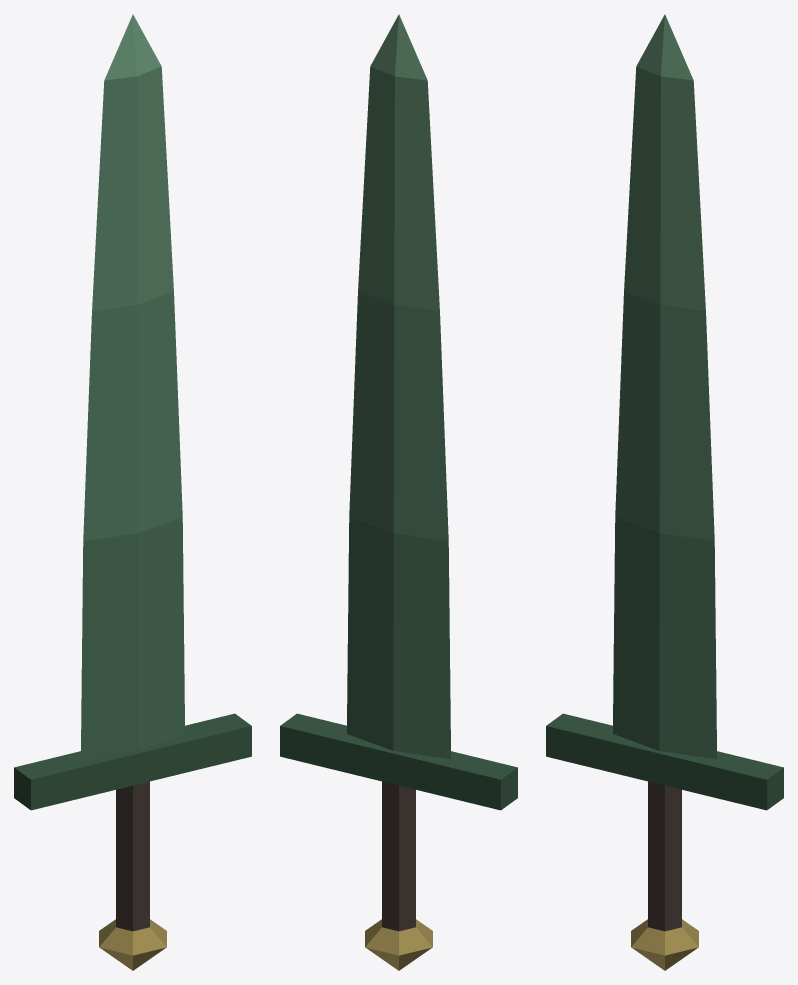
File: sword_broad_adamant_s1041.glb
3 views of the same model, side by side, from view 1: azimuth 30°, elevation 25°; view 2: azimuth 150°, elevation 25°; view 3: azimuth 330°, elevation 25° (orthographic).
Parts seen in each view (by area): view 1: sword_broad_adamant_s1041; view 2: sword_broad_adamant_s1041; view 3: sword_broad_adamant_s1041.
Part boxes in pixels (x1,y1,x2,y2): sword_broad_adamant_s1041: (14,14,251,970); sword_broad_adamant_s1041: (280,14,517,970); sword_broad_adamant_s1041: (546,14,783,970).
Bounding box in the file's own units: 0.1958 × 0.8106 × 0.052.
Materials: 1 (1 with a texture image).
